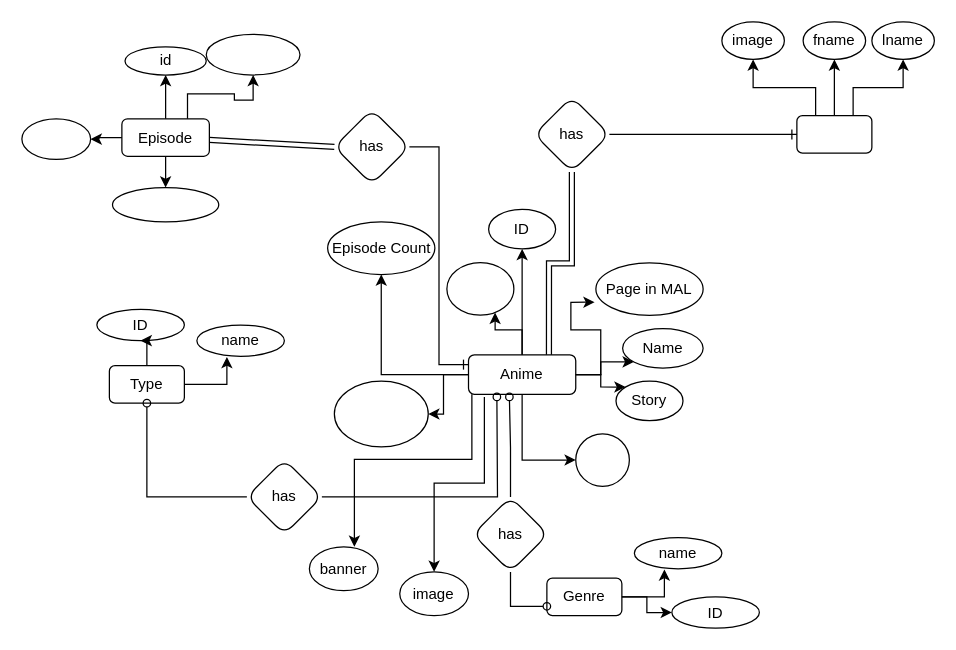
The diagram is 956 pixels wide and 650 high, and some of its shapes have lost their labels. Here are the shapes that lost their labels. From the top down, the centre of each, then its label:
the point at 252,54: watch count
the point at 56,138: filler
the point at 834,133: User
the point at 165,204: title
the point at 480,288: teaser
the point at 380,413: Release Date
the point at 601,459: Out Day
